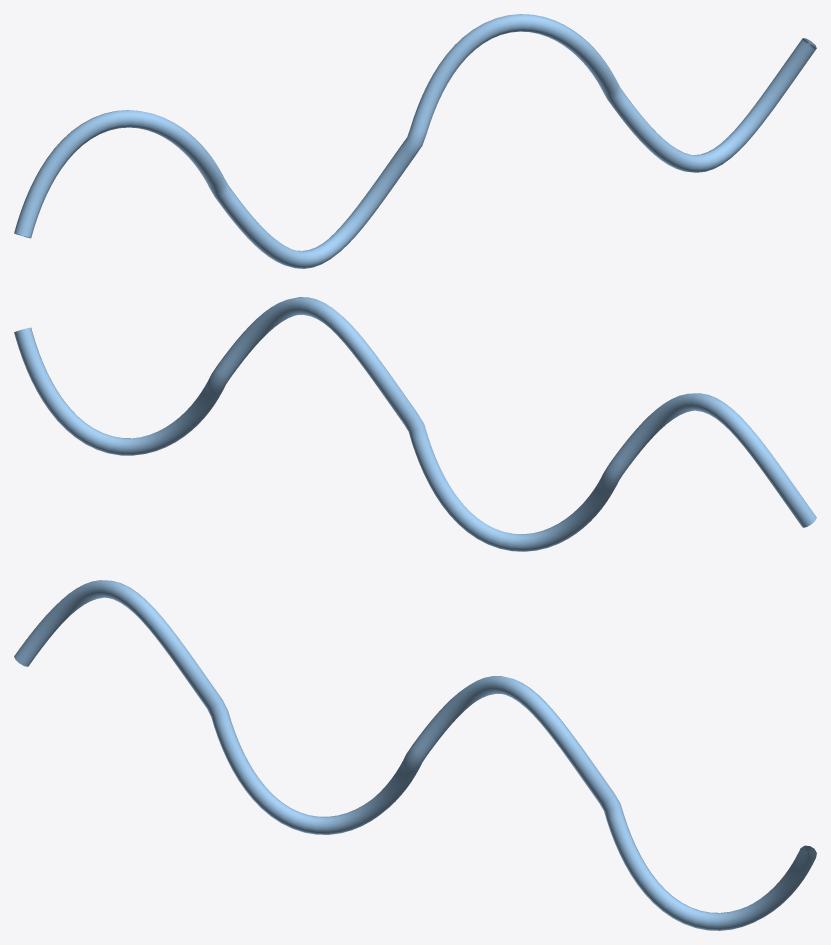
The model's file is example.gltf.
3 renders of one model, top to bottom at view 1: azimuth 30°, elevation 25°; view 2: azimuth 150°, elevation 25°; view 3: azimuth 330°, elevation 25°, orthographic.
Parts seen in each view (by area): view 1: bezier_path; view 2: bezier_path; view 3: bezier_path.
Part boxes in pixels (x1,y1,x2,y2): bezier_path: (14, 14, 816, 268); bezier_path: (14, 297, 816, 551); bezier_path: (14, 580, 816, 930).
Size of the model in its own units: 4.07 by 0.9794 by 0.1944.
